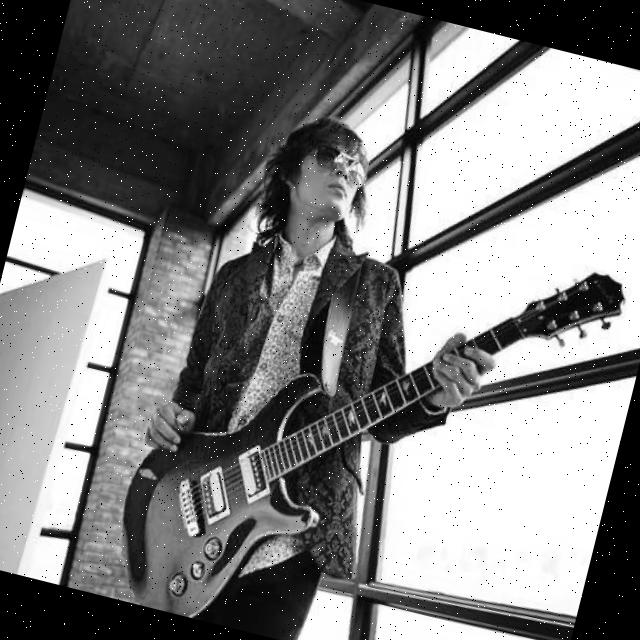guitar: (101, 172, 632, 640)
